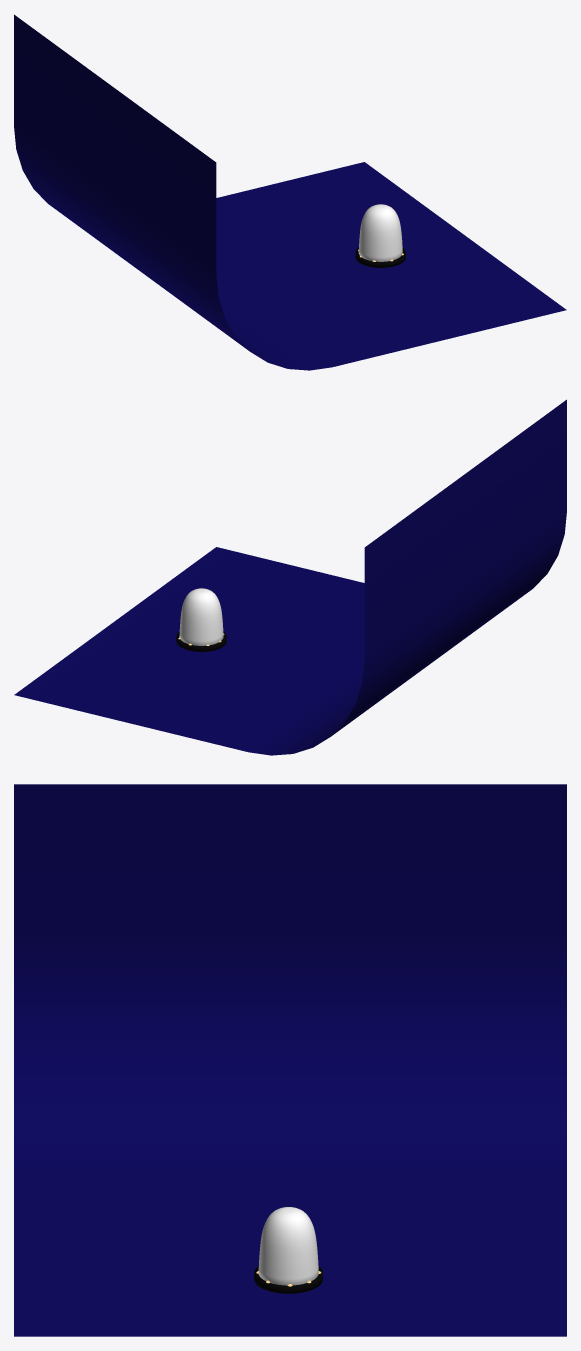
File: glassflowerlampa.glb
3 views of the same model, one above another, from view 1: azimuth 30°, elevation 25°; view 2: azimuth 150°, elevation 25°; view 3: azimuth 270°, elevation 25° (orthographic). The views are drawn at different scales.
Visible parts, largest first — view 1: Plane, банка; view 2: Plane, банка; view 3: Plane, банка, низ.
Part boxes in pixels (x1,y1,x2,y2): Plane: [14, 14, 566, 370]; банка: [358, 204, 402, 261]; Plane: [14, 399, 566, 755]; банка: [179, 588, 223, 645]; Plane: [14, 784, 566, 1336]; банка: [258, 1207, 318, 1285]; низ: [254, 1266, 322, 1293].
Size of the model in its own units: 150 by 95.59 by 150.
